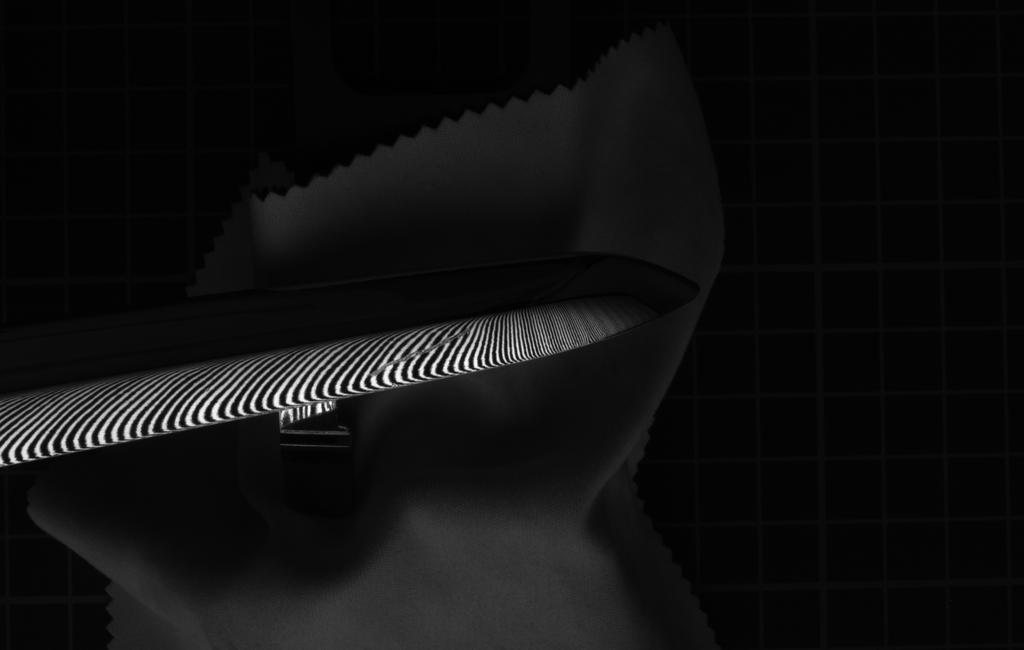Scratch: (348, 325, 474, 383)
